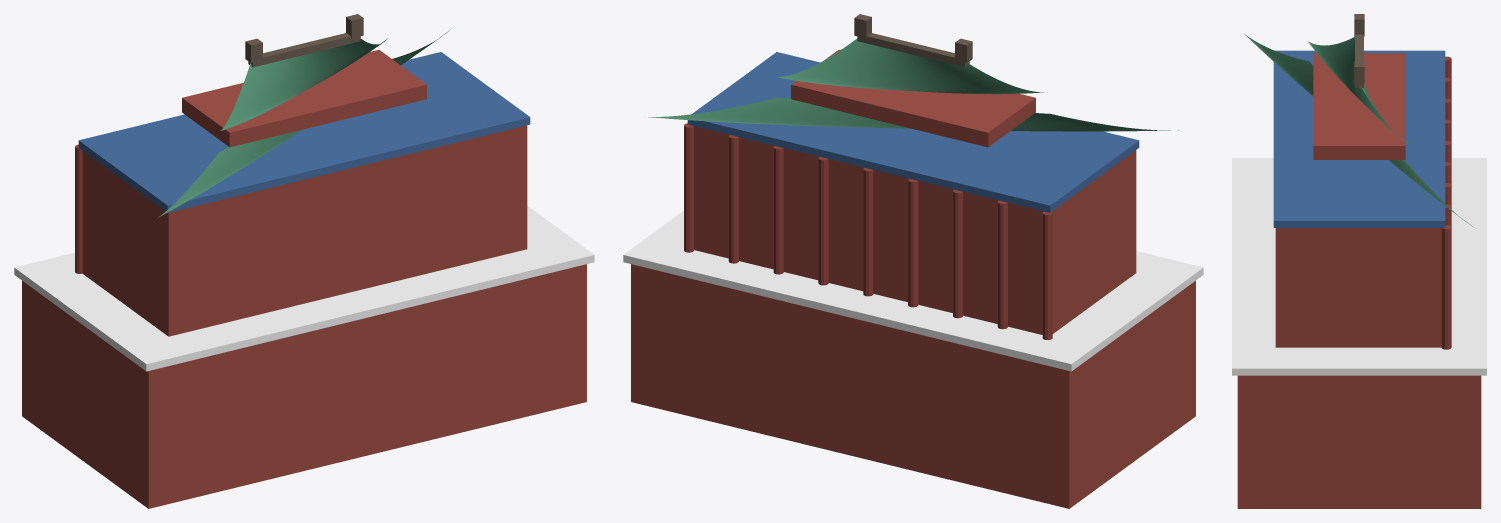
File: zhengyangmen.glb
3 views of the same model, side by side, from view 1: azimuth 30°, elevation 25°; view 2: azimuth 150°, elevation 25°; view 3: azimuth 270°, elevation 25° (orthographic). The views are drawn at different scales.
Parts seen in each view (by area): view 1: zhengyangmen; view 2: zhengyangmen; view 3: zhengyangmen.
Boxes of the visible parts, <box> form: zhengyangmen: <box>14,14,594,508</box>; zhengyangmen: <box>623,14,1203,508</box>; zhengyangmen: <box>1232,14,1486,508</box>.
Bounding box in the file's own units: 45 × 36.4 × 23.
